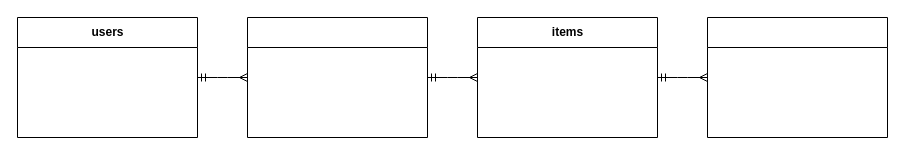
This 905x155 diagram has some shape labels left out. Here are the shapes that lost their labels. From the top down, the centre of each, then its label:
At point (337, 77): "orders".
At point (797, 77): "payments".
